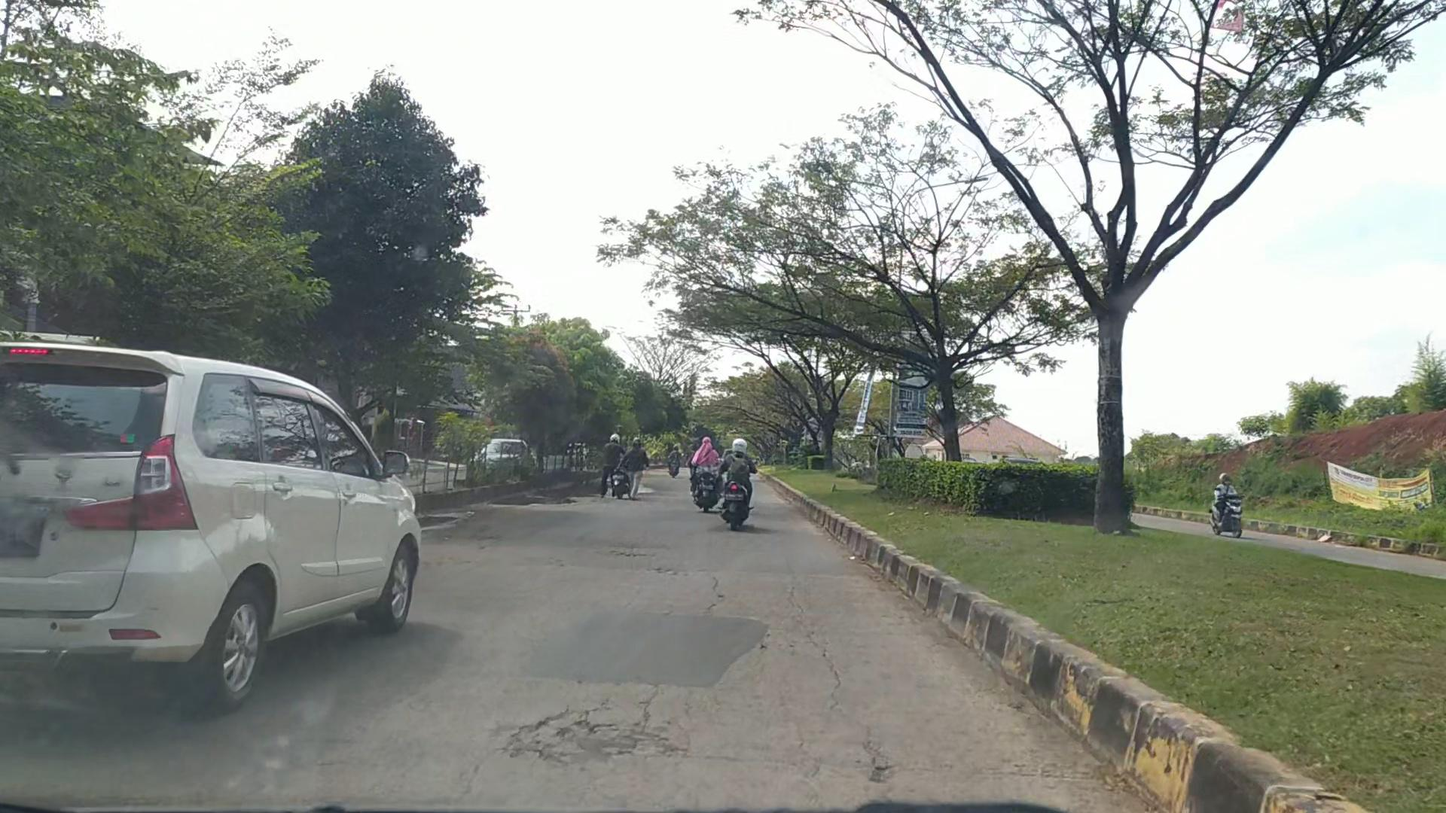pothole: (508, 706, 691, 767)
